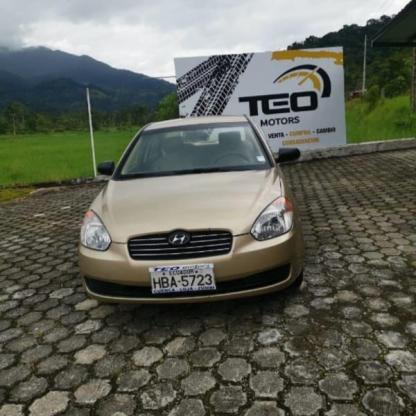Placa: (150, 264, 218, 295)
